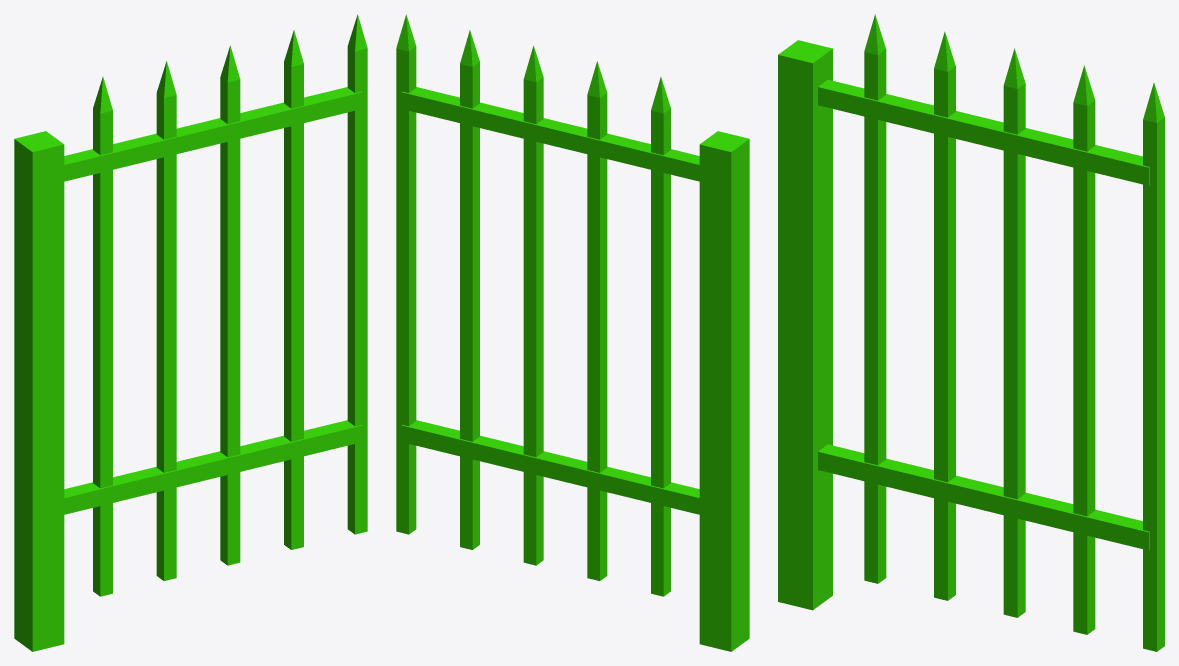
Rendered from fence2_02.fbx.
The picture shows the model from 3 angles, left to right: view 1: azimuth 30°, elevation 25°; view 2: azimuth 150°, elevation 25°; view 3: azimuth 330°, elevation 25°; orthographic projection. The views are drawn at different scales.
Visible parts, largest first — view 1: fence2_02; view 2: fence2_02; view 3: fence2_02.
Part boxes in pixels (left/top/right/bottom): fence2_02: left=14, top=14, right=367, bottom=651; fence2_02: left=396, top=14, right=749, bottom=651; fence2_02: left=778, top=14, right=1164, bottom=651.
Bounding box in the file's own units: 107 × 165 × 10.
